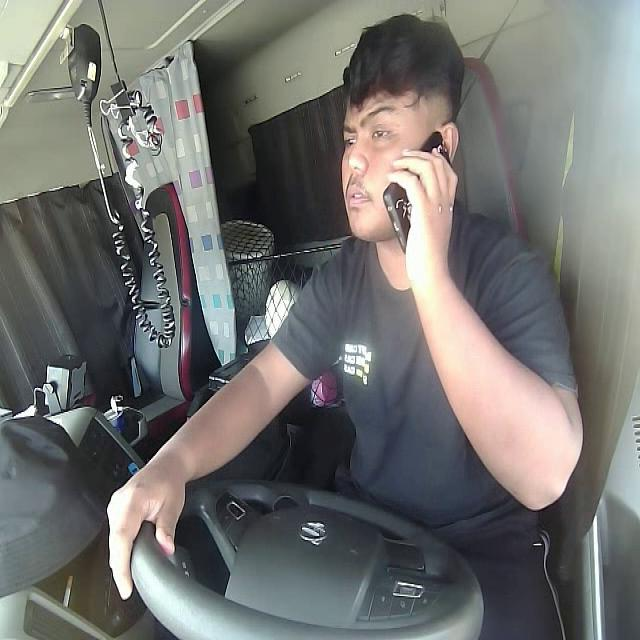phone: (384, 129, 460, 246)
